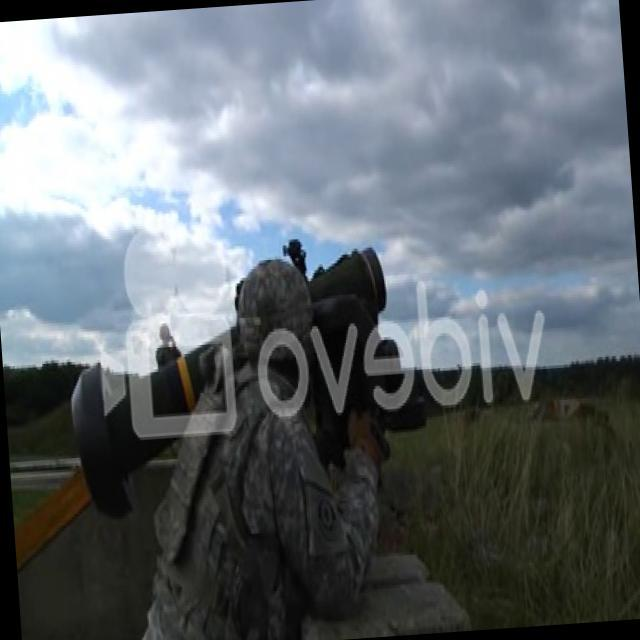rocket: (68, 324, 250, 518)
